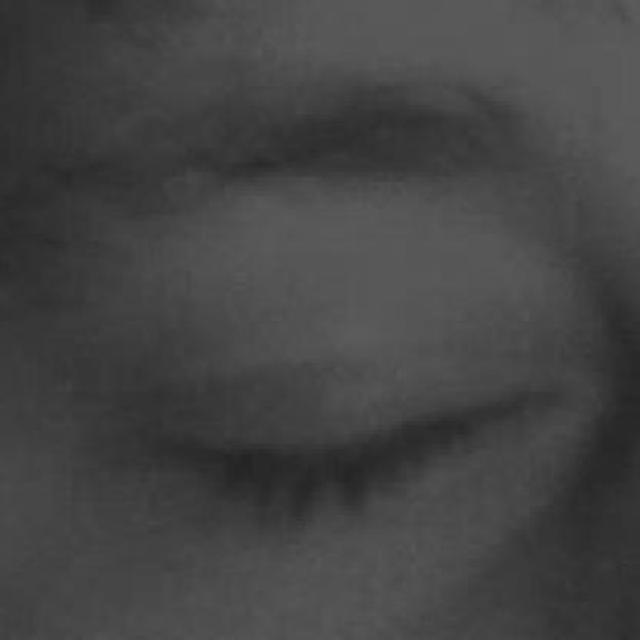drowsy: (162, 252, 540, 636)
